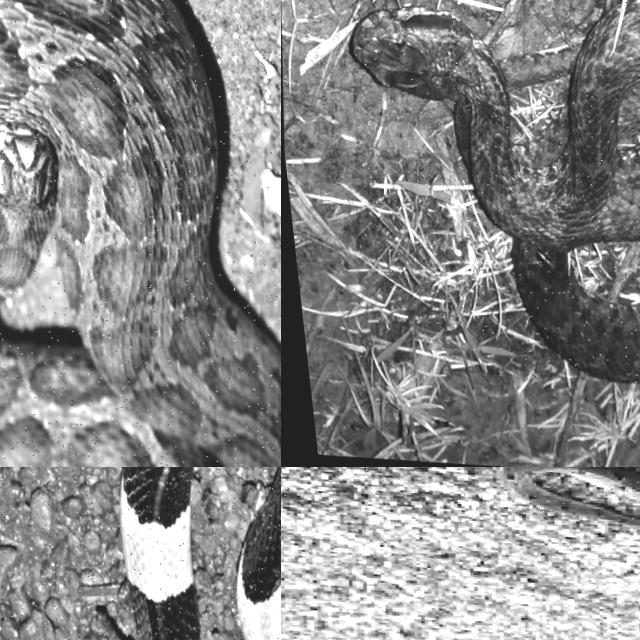Bungarus candidus: (120, 467, 200, 639)
Calloselasma rhodostoma: (500, 467, 639, 525)
Daboia siamensis: (0, 0, 280, 466)
Ovophis monticola: (352, 0, 639, 381)
snake: (0, 0, 280, 466), (352, 0, 639, 381), (120, 467, 200, 639), (500, 467, 639, 525)
